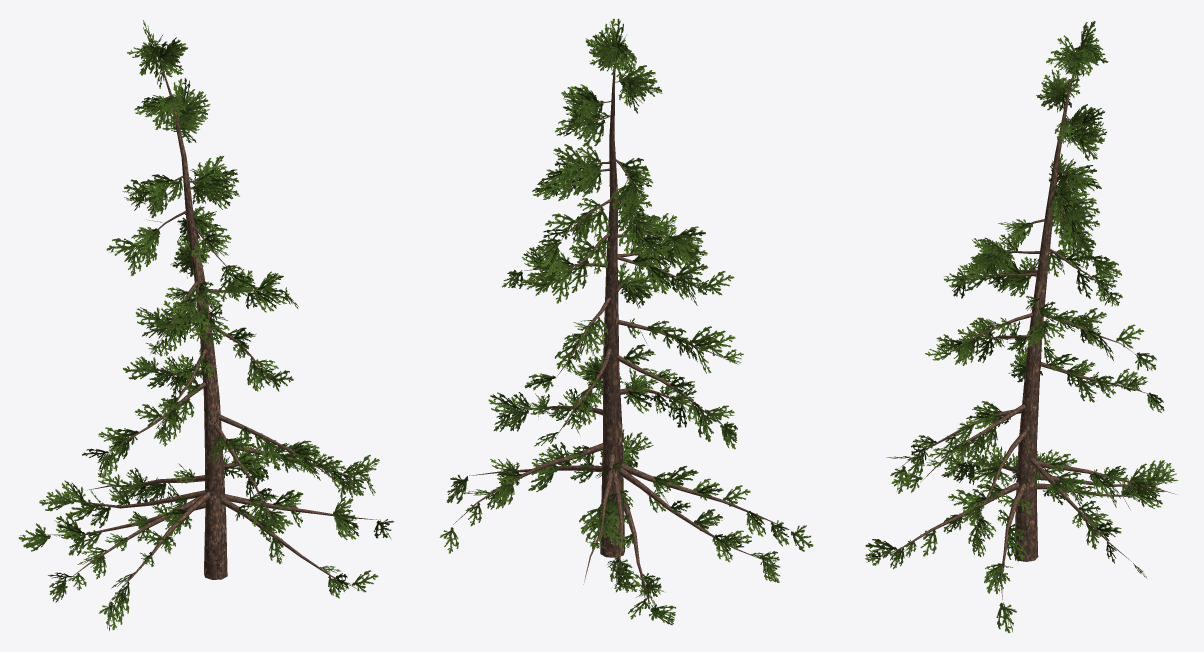
File: spruce-mature.glb
3 renders of one model, left to right at view 1: azimuth 30°, elevation 25°; view 2: azimuth 150°, elevation 25°; view 3: azimuth 270°, elevation 25°, orthographic. The views are drawn at different scales.
Parts seen in each view (by area): view 1: needles, bark; view 2: needles, bark; view 3: needles, bark.
Part boxes in pixels (x1=…): needles: x1=18, y1=20, x2=394, y2=630; bark: x1=46, y1=43, x2=377, y2=601; needles: x1=439, y1=18, x2=813, y2=625; bark: x1=453, y1=39, x2=789, y2=611; needles: x1=865, y1=21, x2=1178, y2=632; bark: x1=875, y1=46, x2=1176, y2=599.
Bounding box in the file's own units: 7.05 × 10.6 × 6.1.
2 materials, 2 textured.
